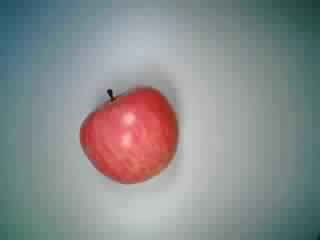apple: (77, 83, 182, 185)
